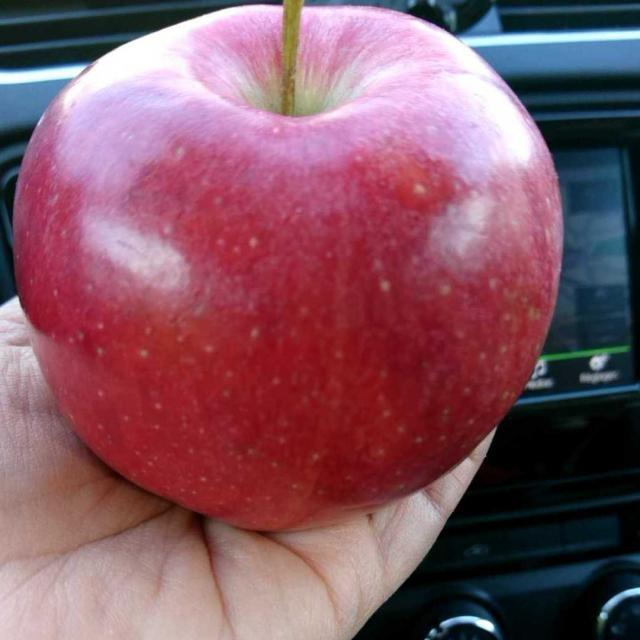apple: (32, 13, 522, 521)
